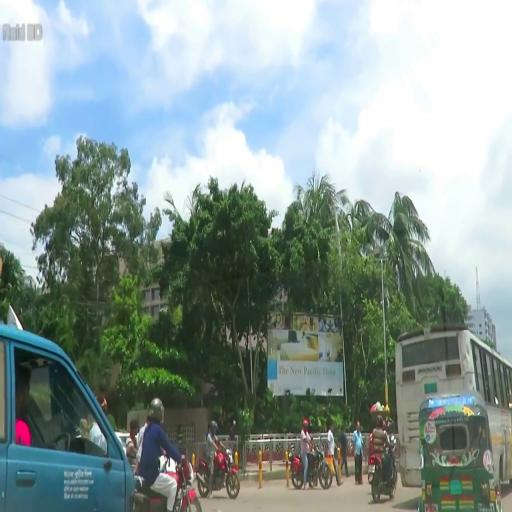bus: (395, 325, 512, 406)
motorbike: (195, 420, 242, 503), (290, 419, 335, 490), (368, 414, 399, 506)
three wheelers (CNG): (415, 389, 506, 512)
